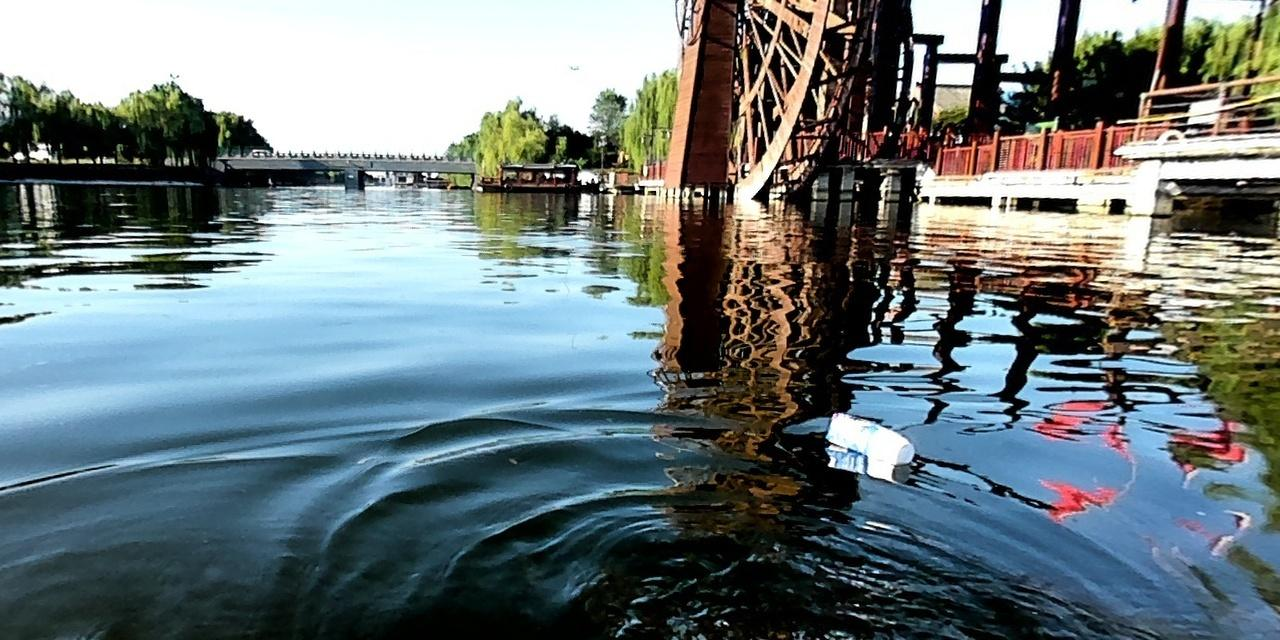bottle: (821, 408, 919, 466)
